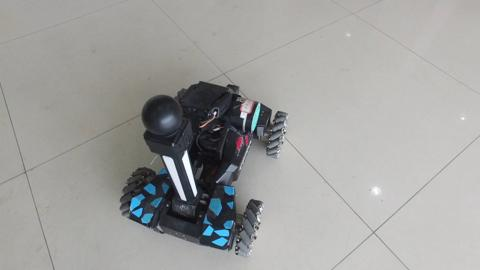chariot: (104, 76, 272, 252)
